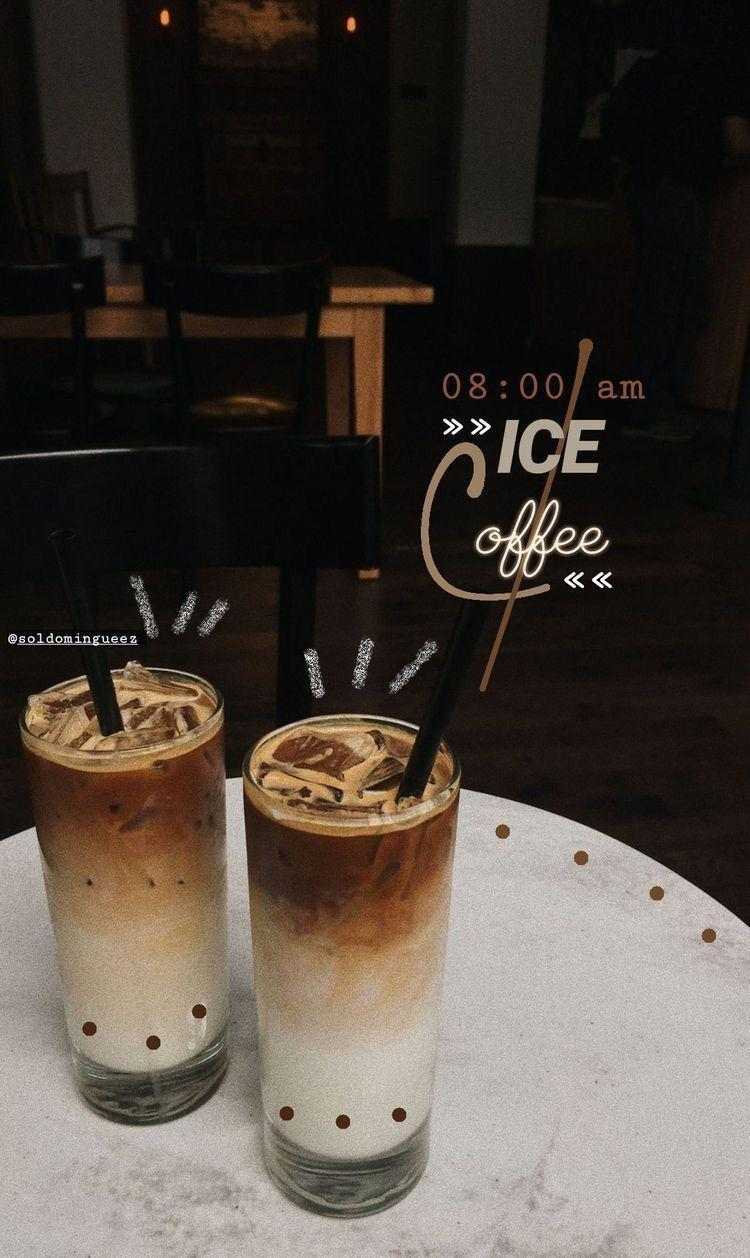glass-normal: (238, 711, 467, 1215), (17, 659, 236, 1124)
